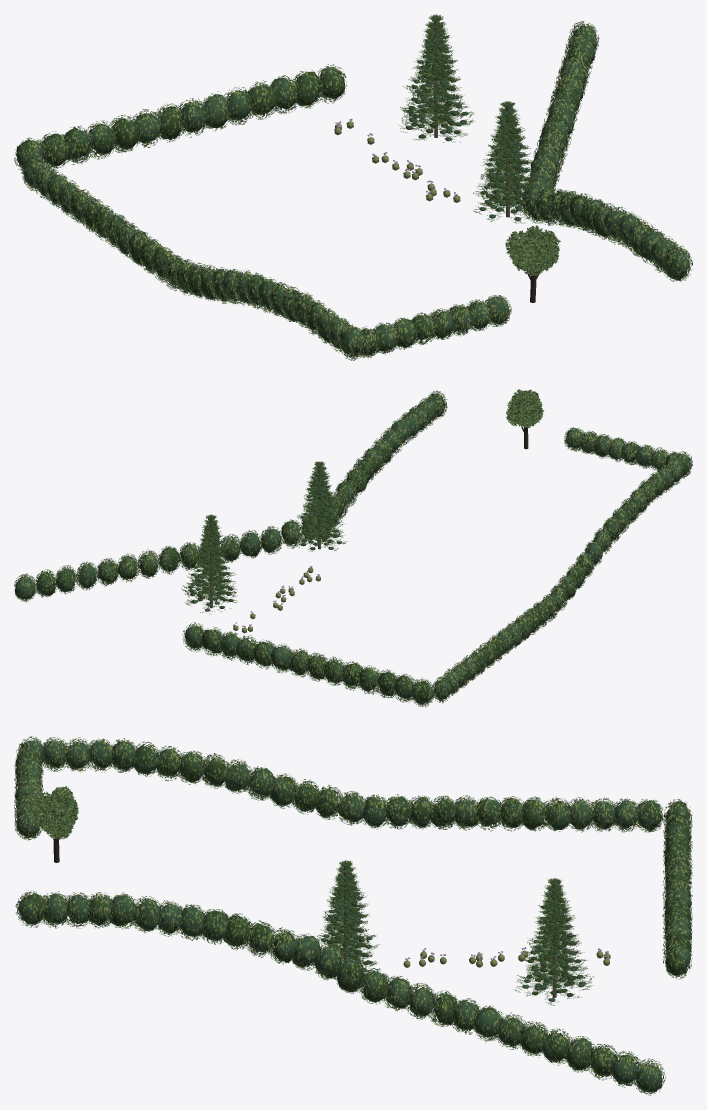
File: villa-garden-plants-east.glb
The picture shows the model from 3 angles, top to bottom: view 1: azimuth 30°, elevation 25°; view 2: azimuth 150°, elevation 25°; view 3: azimuth 270°, elevation 25°; orthographic projection. The views are drawn at different scales.
Visible parts, largest first — view 1: Hedge leaves on CAD grades, Hedge foliage on CAD grades, Spruce needle sprays.004, Spruce foliage interior.004, Spruce needle sprays.003, Spruce foliage interior.003, Individual folded leaves.021; view 2: Hedge leaves on CAD grades, Hedge foliage on CAD grades, Spruce needle sprays.004, Spruce needle sprays.003, Spruce foliage interior.004, Spruce foliage interior.003, Individual folded leaves.021; view 3: Hedge leaves on CAD grades, Hedge foliage on CAD grades, Spruce needle sprays.004, Spruce foliage interior.004, Spruce needle sprays.003, Spruce foliage interior.003, Individual folded leaves.021.
Boxes of the visible parts, x1=… form: Hedge leaves on CAD grades: x1=14, y1=21, x2=692, y2=360; Hedge foliage on CAD grades: x1=16, y1=26, x2=689, y2=354; Spruce needle sprays.004: x1=399, y1=14, x2=473, y2=142; Spruce foliage interior.004: x1=405, y1=17, x2=468, y2=141; Spruce needle sprays.003: x1=473, y1=101, x2=540, y2=223; Spruce foliage interior.003: x1=479, y1=103, x2=533, y2=221; Individual folded leaves.021: x1=505, y1=225, x2=560, y2=276; Hedge leaves on CAD grades: x1=14, y1=390, x2=692, y2=707; Hedge foliage on CAD grades: x1=15, y1=393, x2=690, y2=704; Spruce needle sprays.004: x1=181, y1=514, x2=237, y2=614; Spruce needle sprays.003: x1=296, y1=461, x2=347, y2=551; Spruce foliage interior.004: x1=188, y1=516, x2=233, y2=611; Spruce foliage interior.003: x1=296, y1=462, x2=341, y2=550; Individual folded leaves.021: x1=506, y1=389, x2=544, y2=427; Hedge leaves on CAD grades: x1=14, y1=736, x2=692, y2=1095; Hedge foliage on CAD grades: x1=15, y1=740, x2=691, y2=1092; Spruce needle sprays.004: x1=514, y1=878, x2=593, y2=1005; Spruce foliage interior.004: x1=522, y1=880, x2=585, y2=1001; Spruce needle sprays.003: x1=314, y1=860, x2=379, y2=973; Spruce foliage interior.003: x1=321, y1=863, x2=372, y2=971; Individual folded leaves.021: x1=28, y1=786, x2=78, y2=839.
Bounding box in the file's own units: 32.39 × 7.47 × 34.17.
9 materials, 9 textured.
